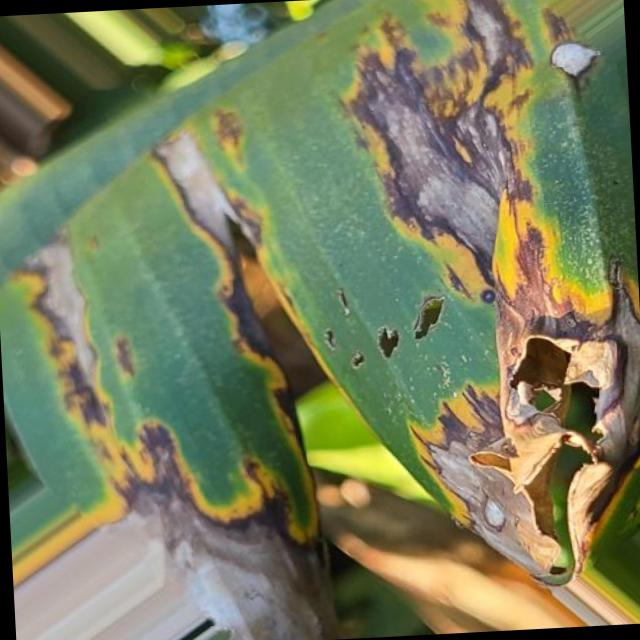Banana_Black_Sigatoka: (11, 231, 327, 640), (347, 0, 639, 322), (382, 334, 640, 576), (146, 110, 317, 344)
